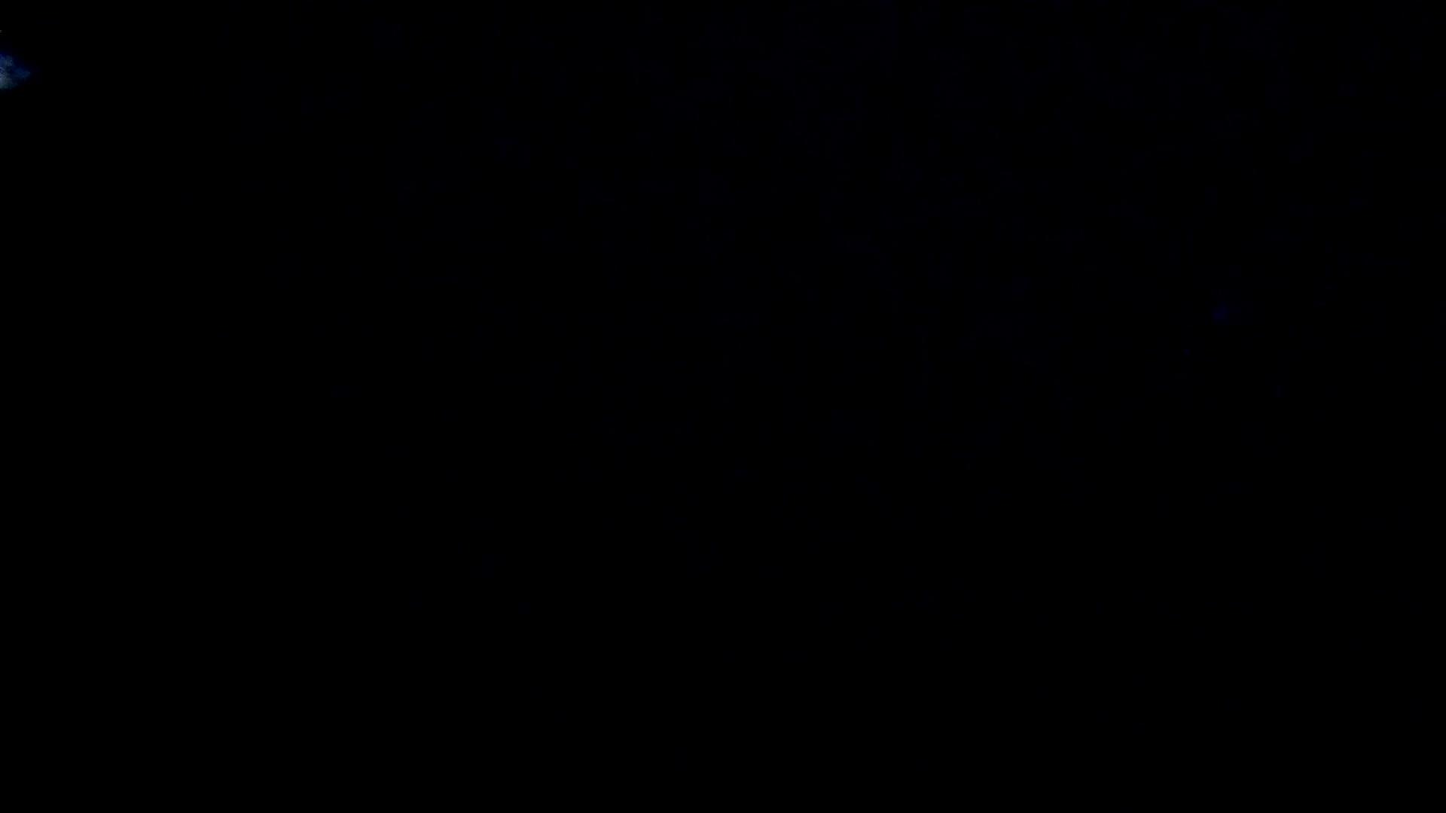organism: (0, 30, 38, 105)
